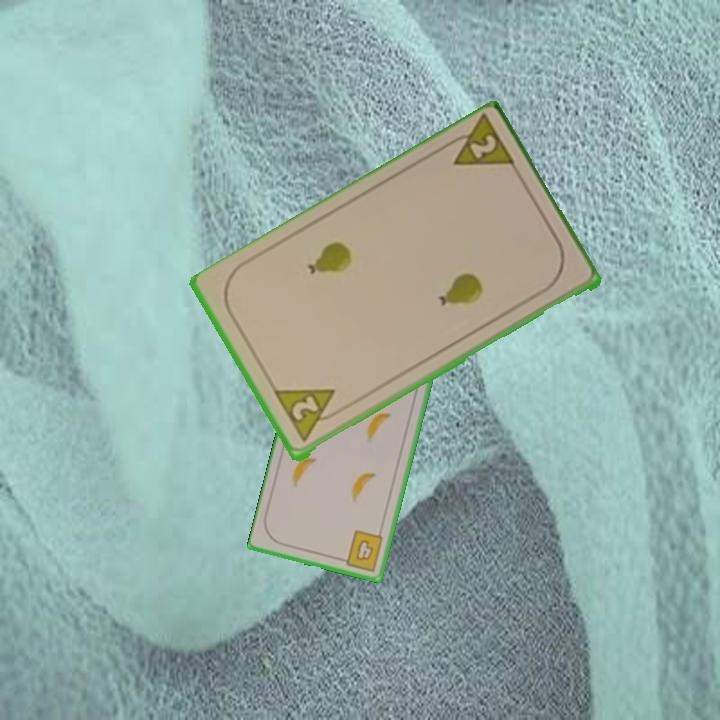2p: (438, 113, 519, 173), (271, 385, 346, 446)
4b: (337, 526, 386, 574)
